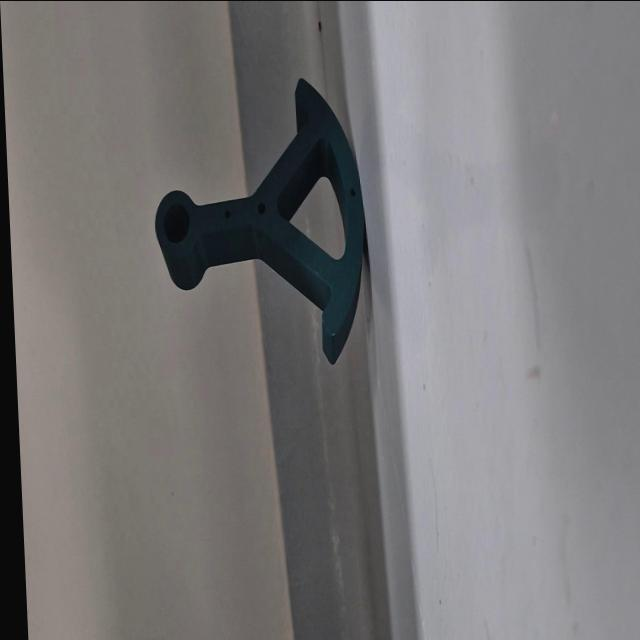haptic: (146, 75, 373, 366)
